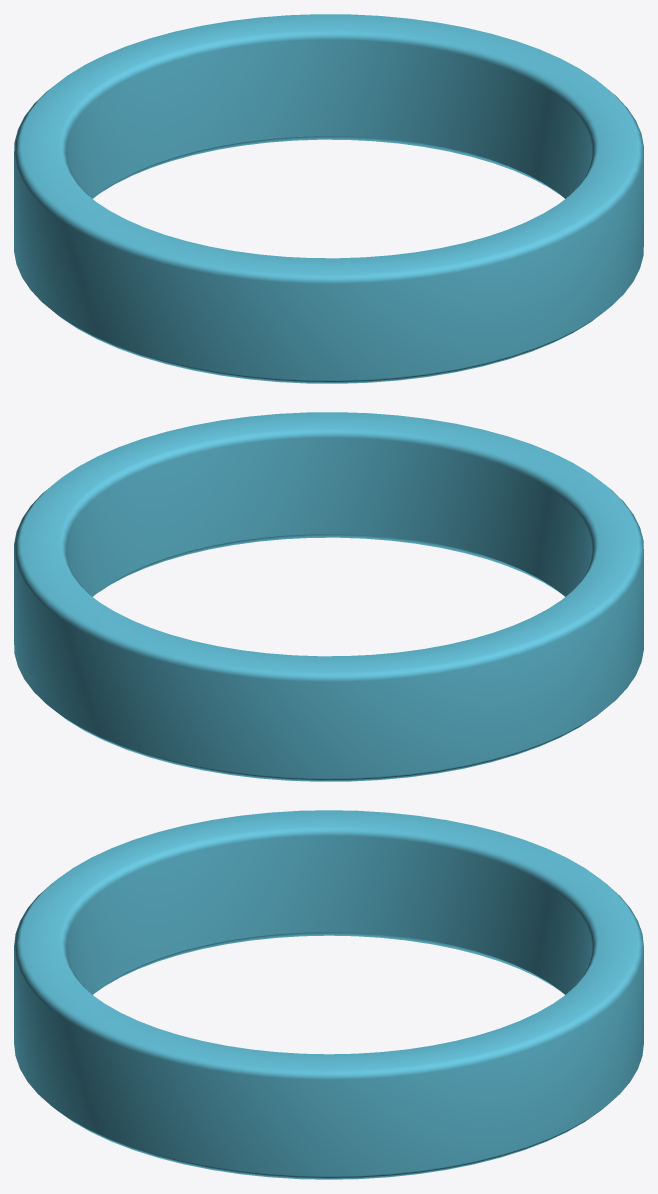
The picture shows the model from 3 angles, top to bottom: view 1: azimuth 30°, elevation 25°; view 2: azimuth 150°, elevation 25°; view 3: azimuth 270°, elevation 25°; orthographic projection.
Visible parts, largest first — view 1: seal_body; view 2: seal_body; view 3: seal_body.
Part boxes in pixels (x1,y1,x2,y2): seal_body: (14, 14, 643, 383); seal_body: (14, 412, 643, 781); seal_body: (14, 810, 643, 1179).
Bounding box in the file's own units: 0.06 × 0.0115 × 0.06.
